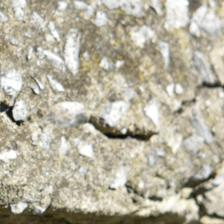Crack: (95, 73, 223, 143)
